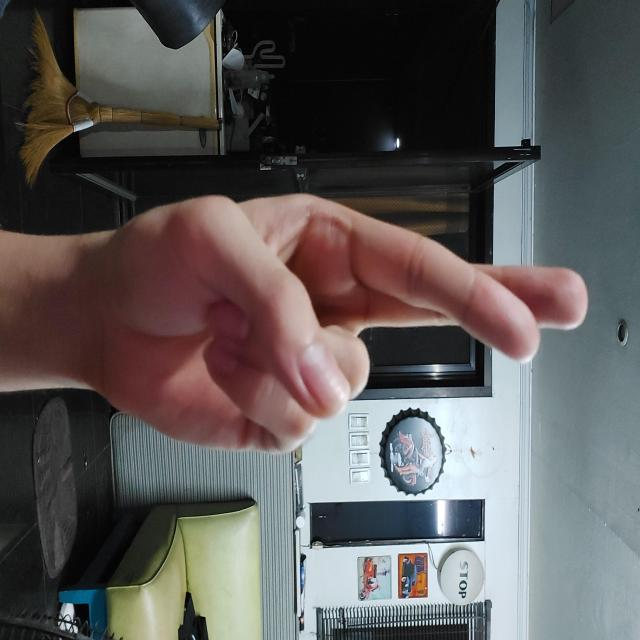R: (193, 51, 455, 542)
